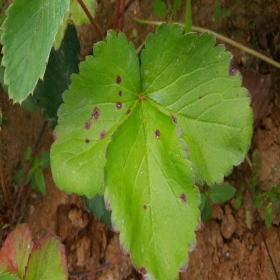Leaf Spot: (140, 21, 254, 188), (103, 96, 202, 279), (50, 29, 141, 200)
